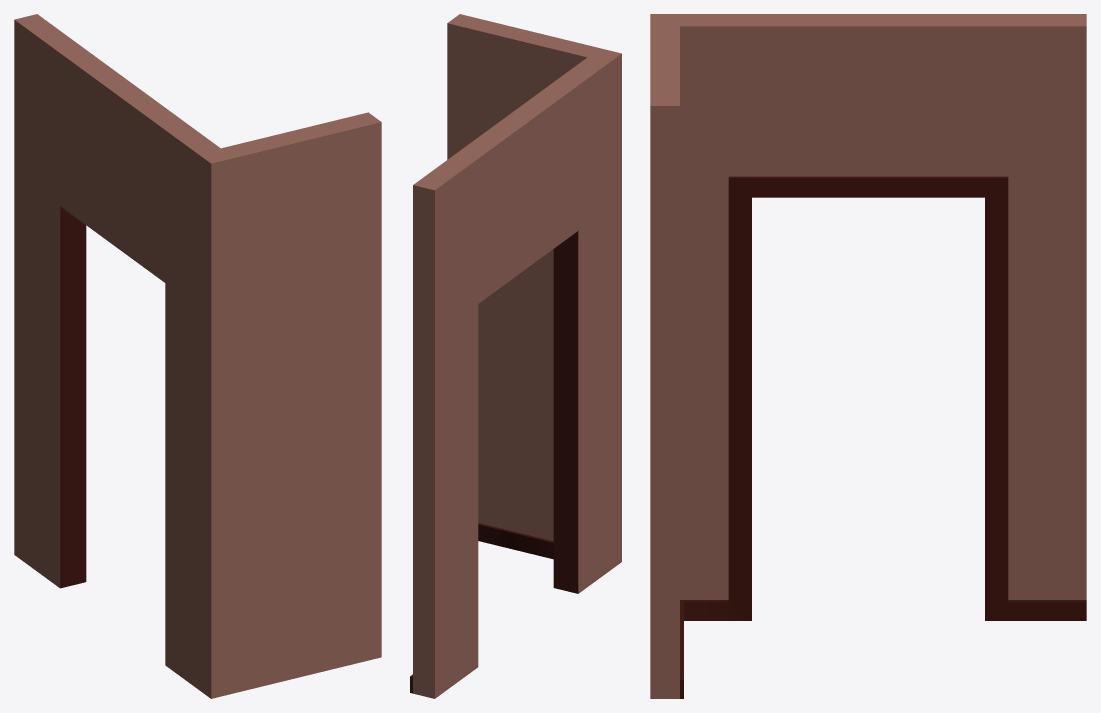
The model's file is T_PorteAscenseur_04.fbx.
3 views of the same model, side by side, from view 1: azimuth 30°, elevation 25°; view 2: azimuth 150°, elevation 25°; view 3: azimuth 270°, elevation 25° (orthographic). The views are drawn at different scales.
Visible parts, largest first — view 1: T_PorteAscenseur_04; view 2: T_PorteAscenseur_04; view 3: T_PorteAscenseur_04.
Part boxes in pixels (x1,y1,x2,y2): T_PorteAscenseur_04: [14, 14, 381, 698]; T_PorteAscenseur_04: [410, 14, 621, 698]; T_PorteAscenseur_04: [650, 14, 1086, 698].
Size of the model in its own units: 100 by 300 by 200.
